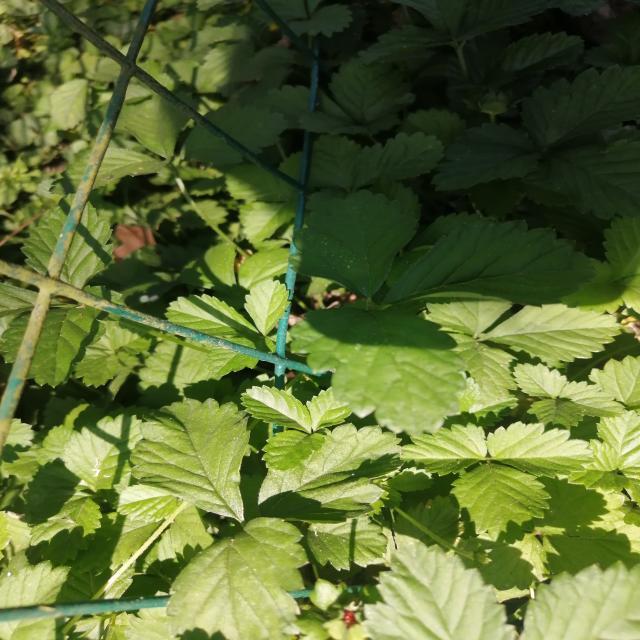Mock_strawberry: (88, 370, 595, 510)
